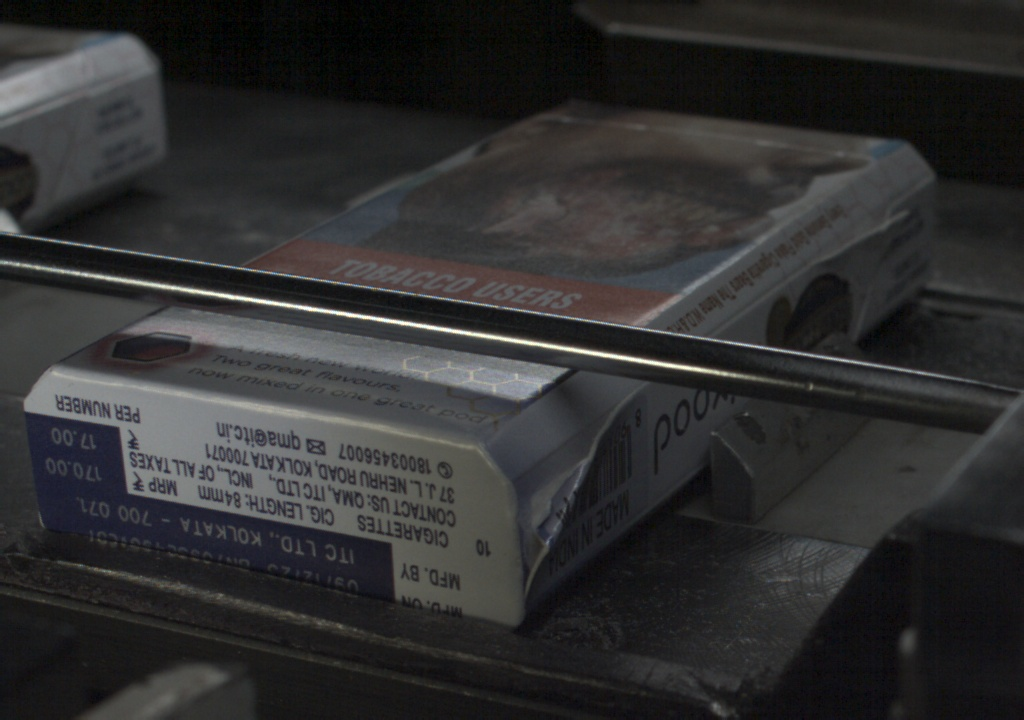g_bottom: (23, 369, 520, 632)
g_label: (37, 494, 395, 598)
g_lmiter: (713, 274, 800, 338)
g_miter: (890, 168, 934, 205)
ng_lmiter: (520, 438, 599, 565), (812, 213, 880, 262), (594, 388, 638, 437)
price: (37, 422, 125, 491)
